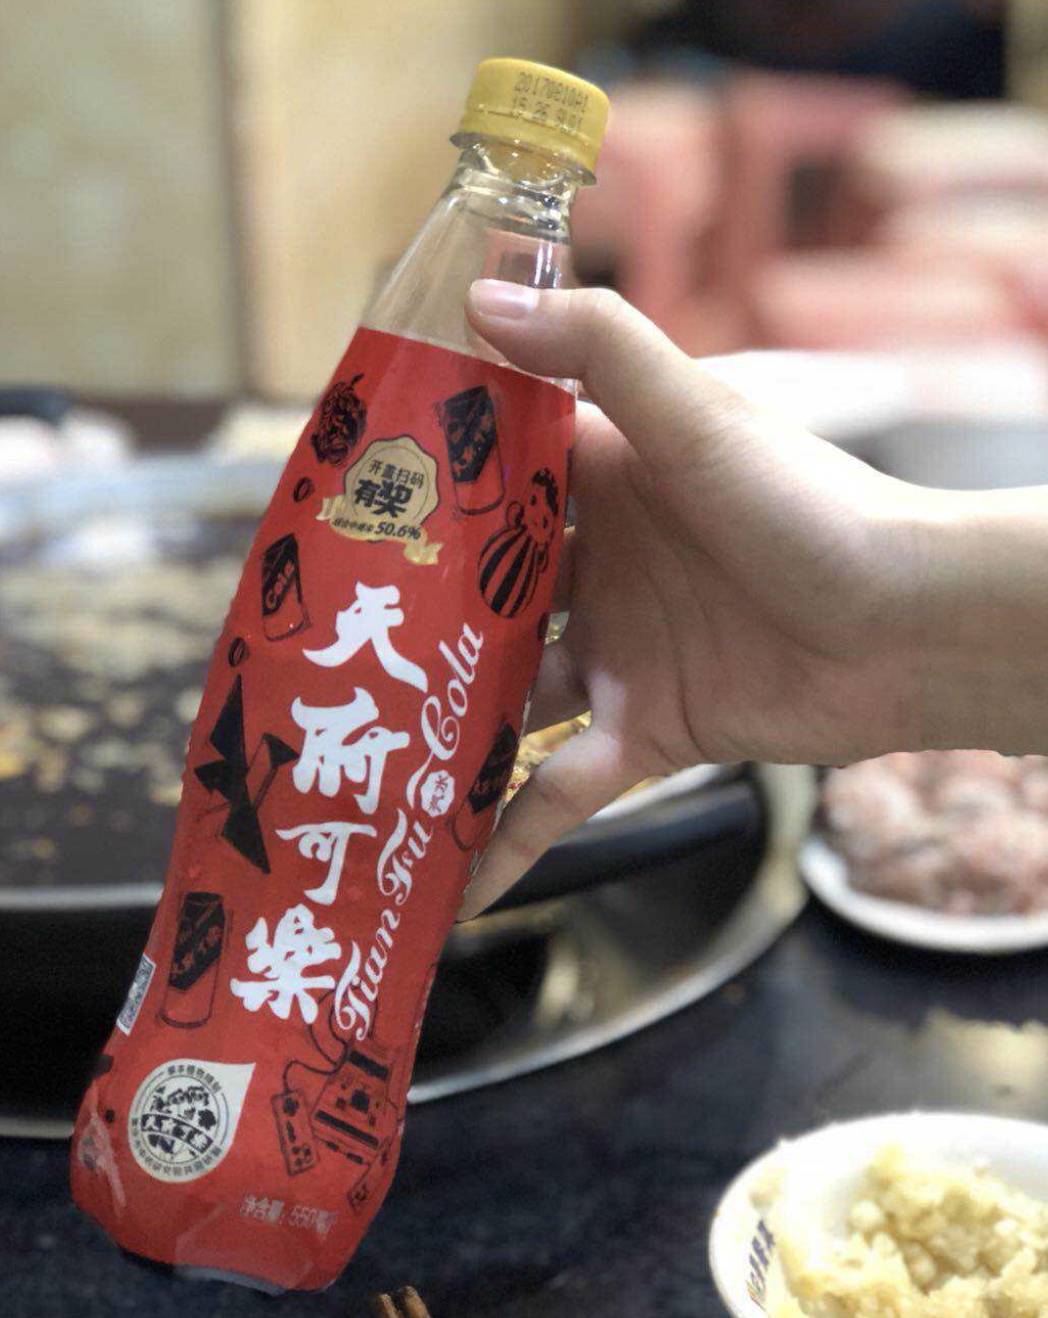天府可乐: (101, 58, 608, 1257)
